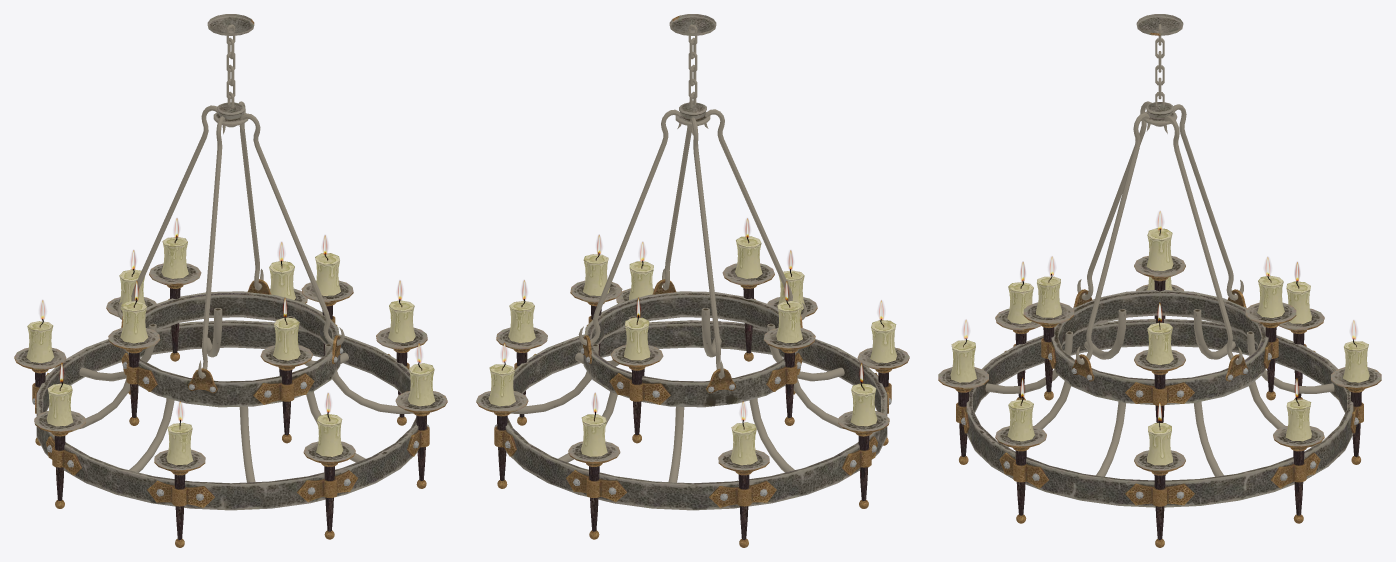
File: medieval_chandelier.glb
3 renders of one model, left to right at view 1: azimuth 30°, elevation 25°; view 2: azimuth 150°, elevation 25°; view 3: azimuth 270°, elevation 25°, orthographic.
Visible parts, largest first — view 1: group42; view 2: group42; view 3: group42.
Part boxes in pixels (x1=…): group42: x1=14, y1=14, x2=447, y2=547; group42: x1=476, y1=14, x2=909, y2=547; group42: x1=938, y1=14, x2=1381, y2=547.
Size of the model in its own units: 38.71 by 42.47 by 38.71.
Materials: 2 (2 with a texture image).
